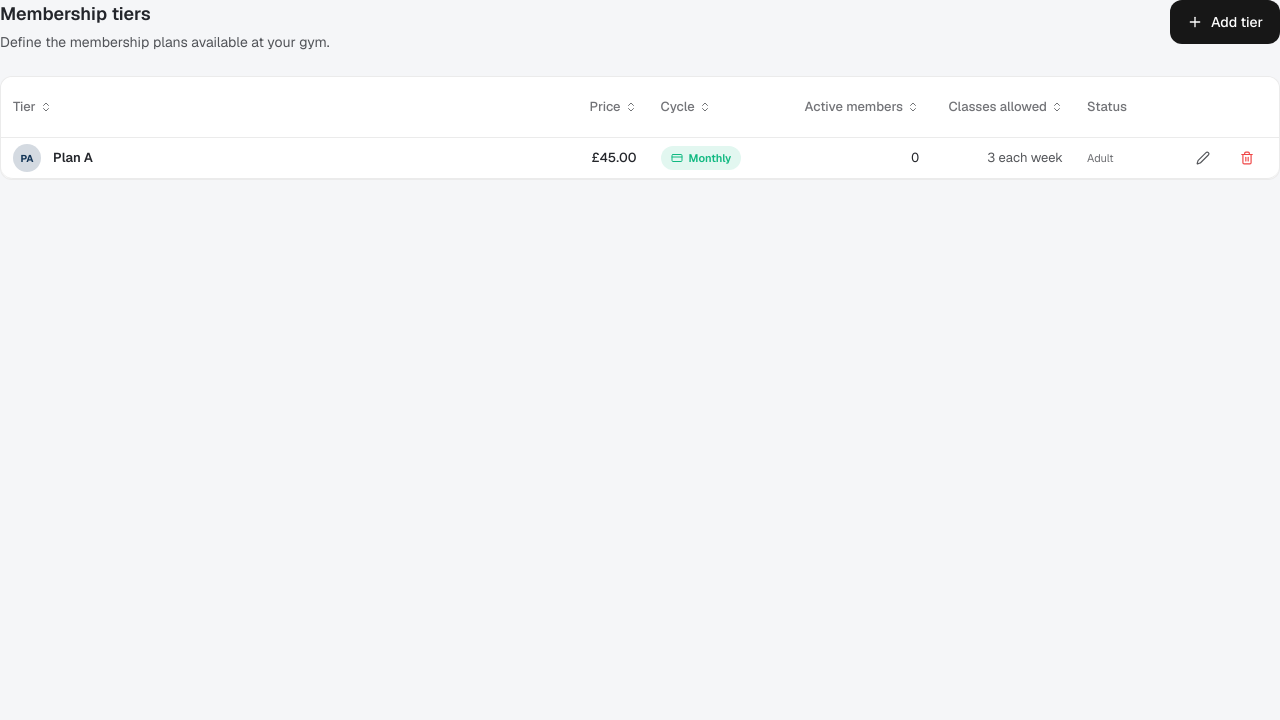
it: the class allowance in the tier editor › sends the allowance only when it changed from what the form loaded › opened with 3 each week, another session sets 5: a price-only save omits the set and 5 survives
The width and height of the screenshot is (1280, 720).
Click the button named "Edit Plan A".
click(1203, 158)  # box [1183,142,1223,174]
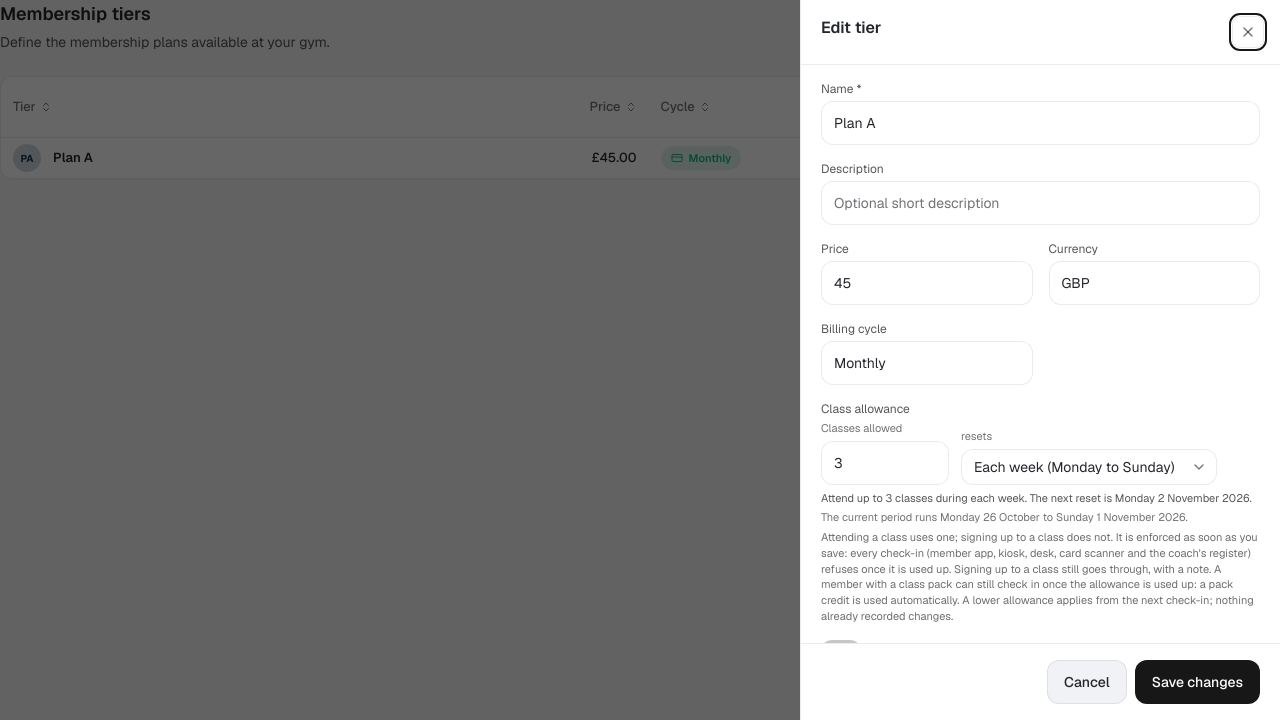
Replace the text in the number field labelled "Price" with "50" at (927, 283), box [821,261,1032,305]
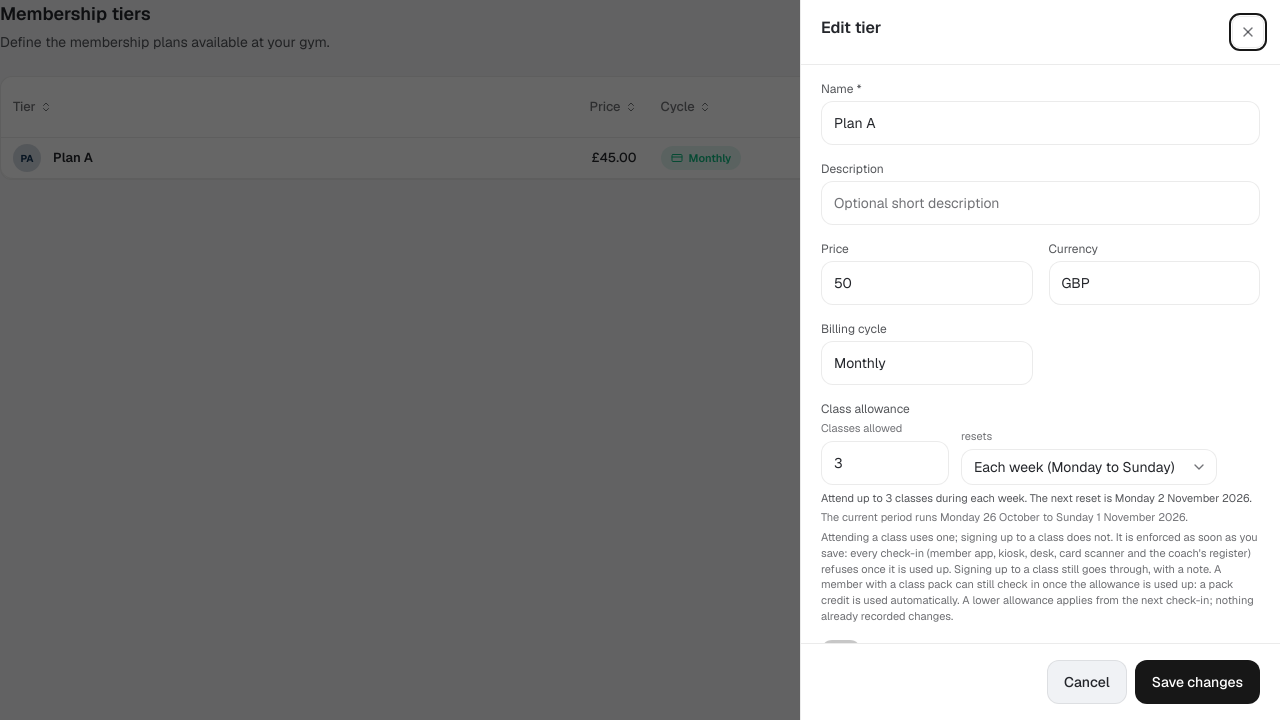
Click the button "Save changes".
click(1197, 682)  # box [1135,660,1260,704]
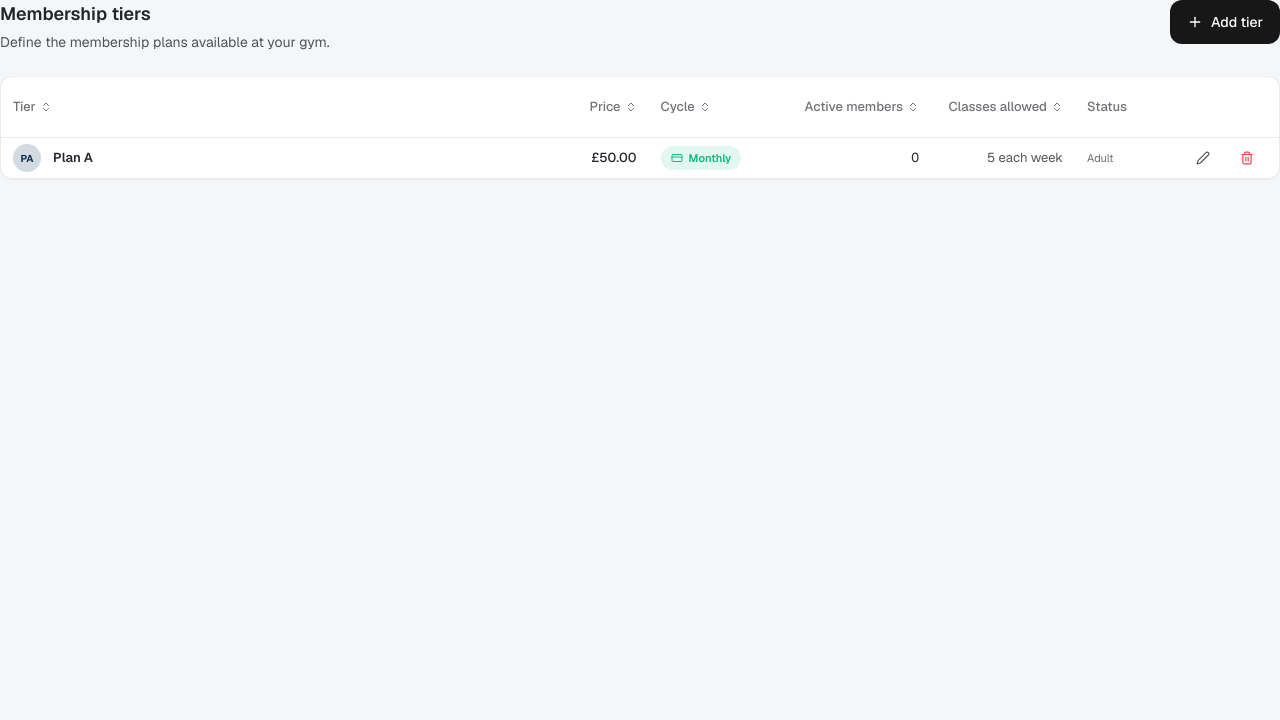
Expected: the text "5 each week" is shown, [987,149,1063,166]
